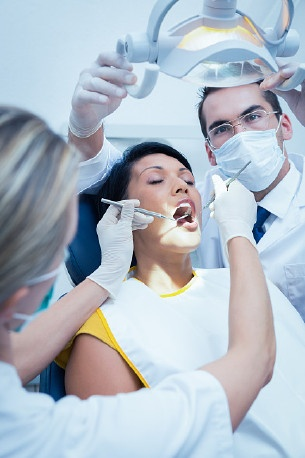Mask: (208, 105, 290, 188)
